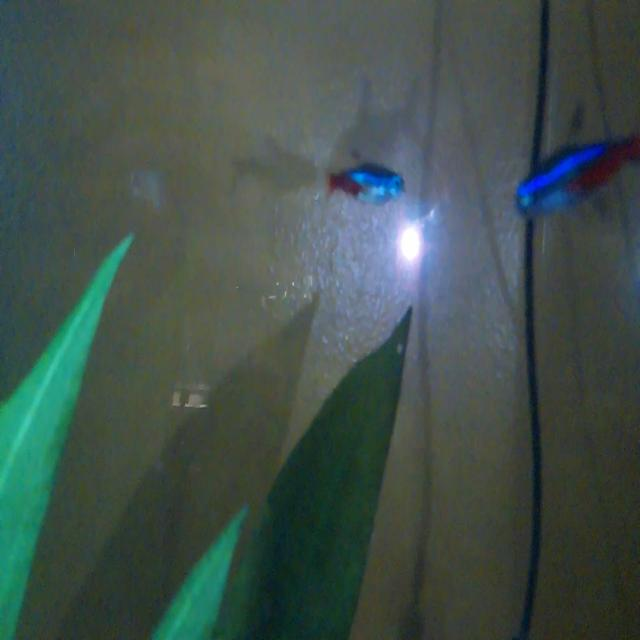fish: (500, 127, 640, 221), (317, 142, 410, 218)
